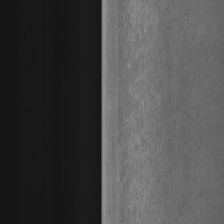silk_spot: (118, 10, 160, 205)
